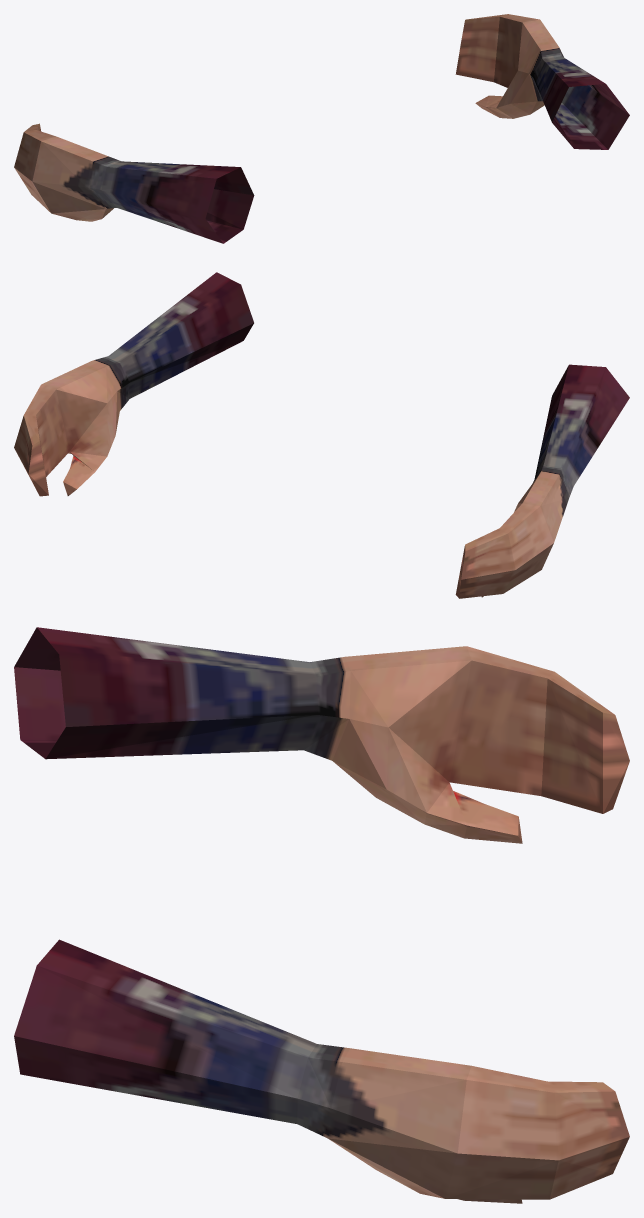
The model's file is summoner_glove_female_92520.obj.
The picture shows the model from 3 angles, top to bottom: view 1: azimuth 30°, elevation 25°; view 2: azimuth 150°, elevation 25°; view 3: azimuth 270°, elevation 25°; orthographic projection. The views are drawn at different scales.
Parts seen in each view (by area): view 1: summoner_glove_female_92520; view 2: summoner_glove_female_92520; view 3: summoner_glove_female_92520.
Part boxes in pixels (box(x1,y1,x2,y2)): summoner_glove_female_92520: box(14, 14, 629, 243); summoner_glove_female_92520: box(14, 272, 629, 598); summoner_glove_female_92520: box(14, 627, 629, 1203).
Size of the model in its own units: 28.62 by 6.69 by 16.43.
1 material, 1 textured.
